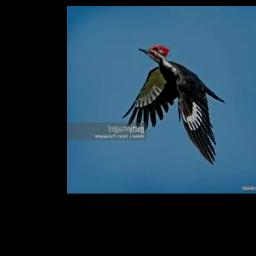Woodpecker: (122, 45, 226, 165)
